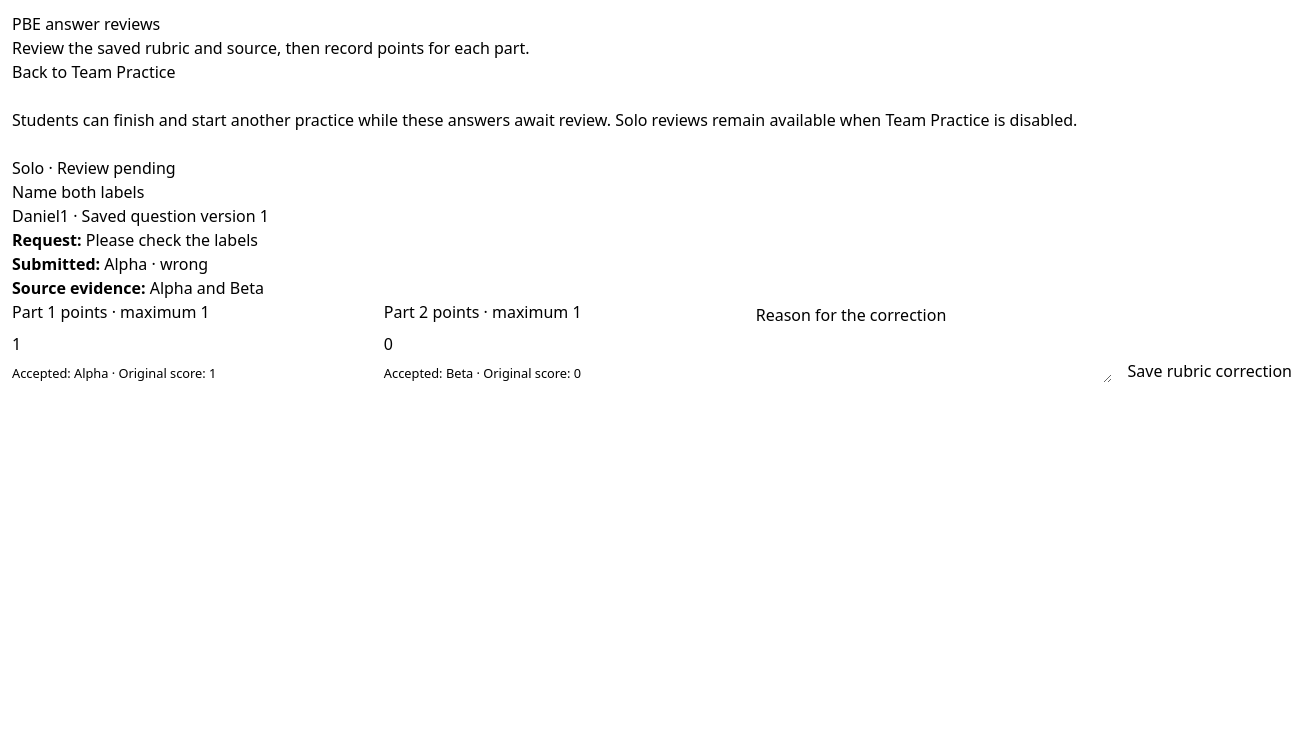
it: reviews a Solo frozen rubric independently of room enablement and resumes bounded evidence updates
Expected: the heading "Name both labels" is shown, [12,181,144,203]
Expected: the text "Solo reviews remain available" is shown, [12,109,1077,131]
Replace the text in the number field labelled "Part 2 points · maximum 1 Accepted: Beta · Original score: 0" with "1" at (562, 344), box [384,332,740,356]
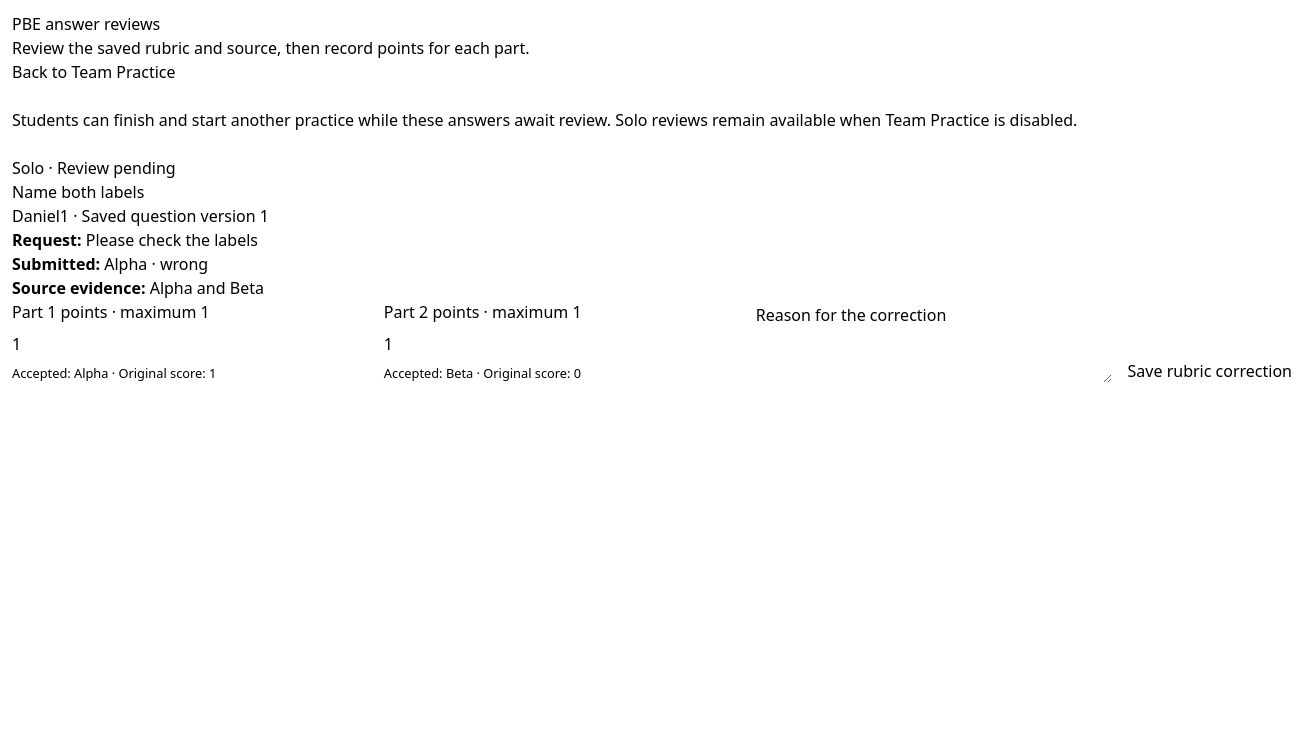
Type "Both labels are supported" into the text box labelled "Reason for the correction" at (934, 359), box [756,335,1112,383]
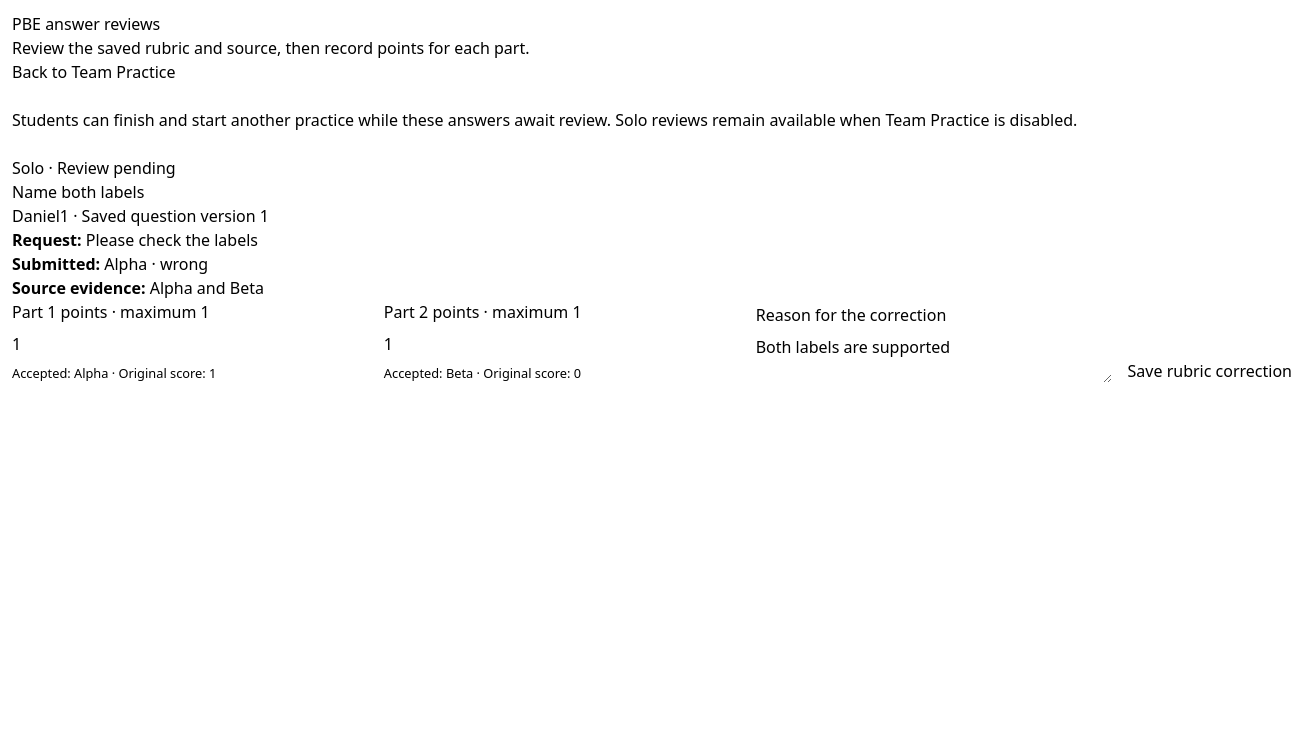
Click the button "Save rubric correction" at (1210, 371), box [1128,359,1292,383]
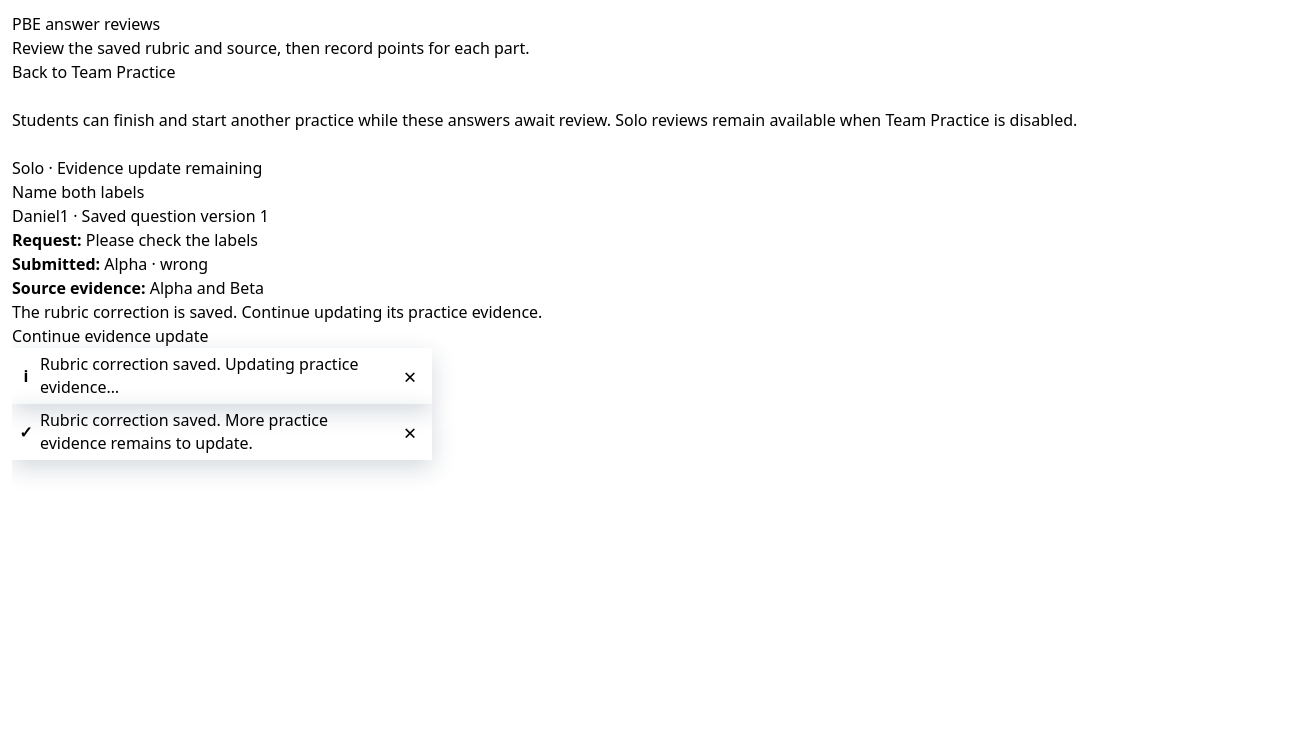
Expected: the button "Continue evidence update" is shown
Click the button "Continue evidence update" at (110, 336), box [12,324,208,348]
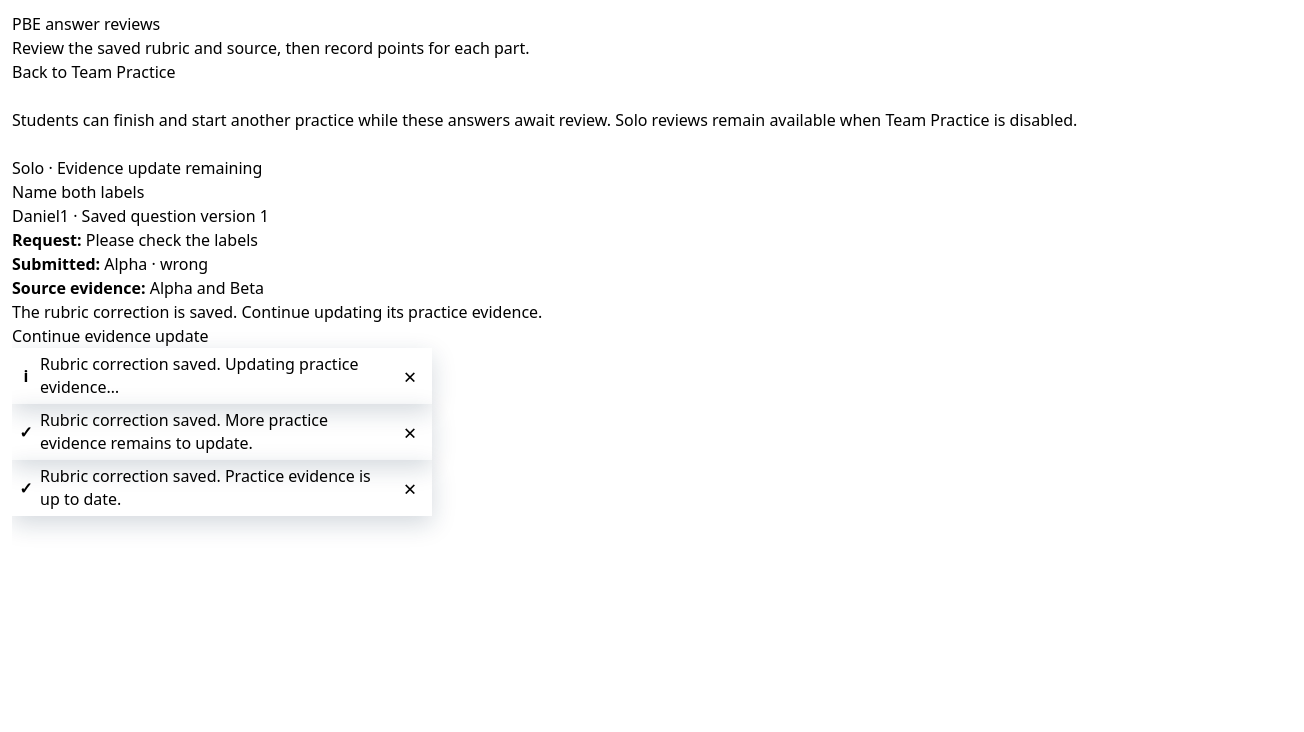
Expected: the text "Rubric correction saved. Practice evidence is up to date." is shown, [40,465,388,511]
